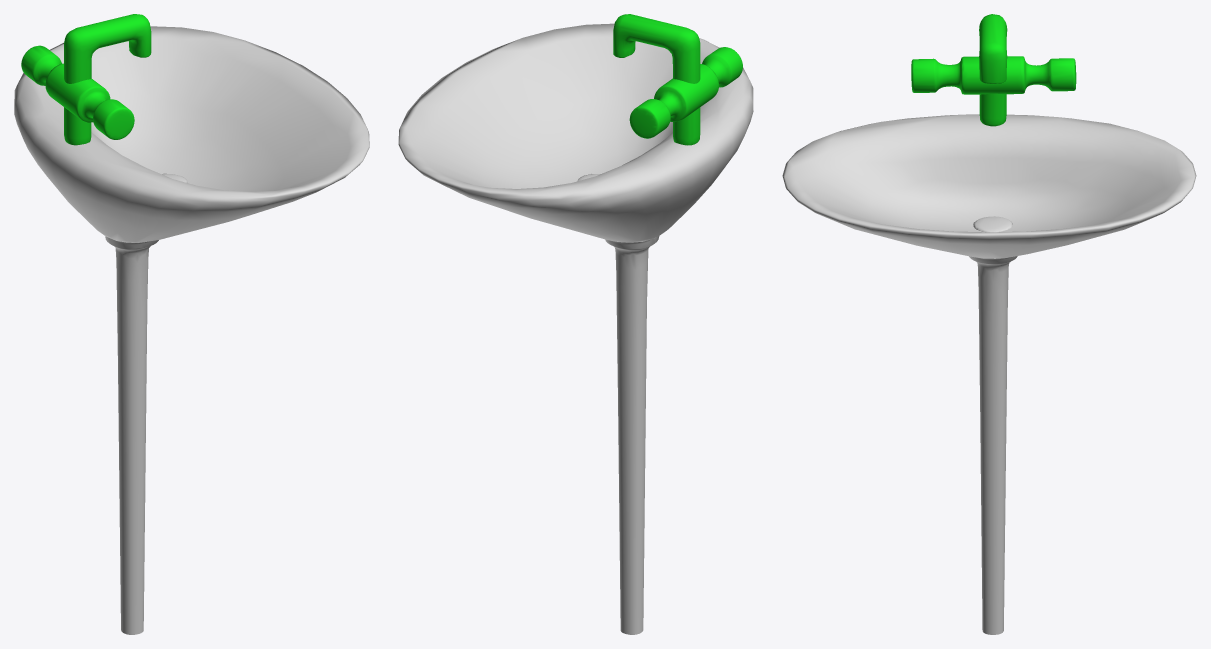
Rendered from newsink.fbx.
The picture shows the model from 3 angles, left to right: view 1: azimuth 30°, elevation 25°; view 2: azimuth 150°, elevation 25°; view 3: azimuth 270°, elevation 25°; orthographic projection. The views are drawn at different scales.
Parts seen in each view (by area): view 1: Cube.001; view 2: Cube.001; view 3: Cube.001.
Part boxes in pixels (left/top/right/bottom): Cube.001: left=14, top=14, right=369, bottom=634; Cube.001: left=398, top=14, right=753, bottom=634; Cube.001: left=782, top=14, right=1196, bottom=634.
Bounding box in the file's own units: 216 × 461 × 293.
